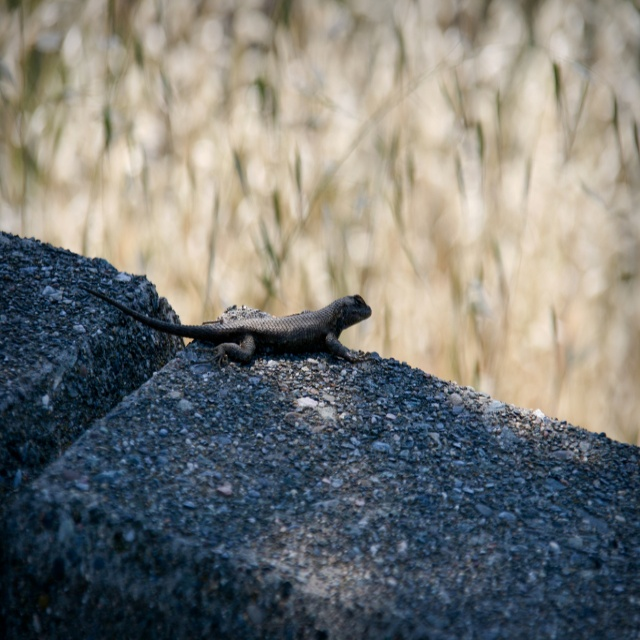Lizard: (139, 289, 389, 379)
